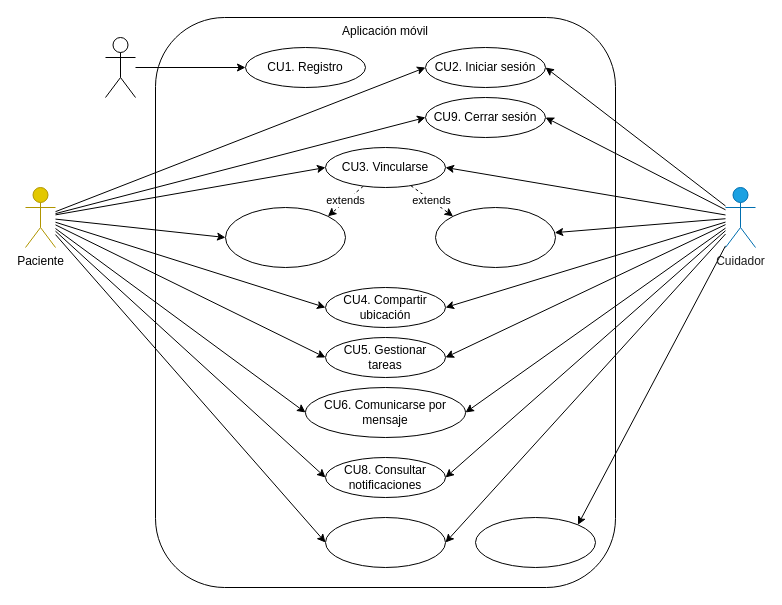
The diagram is 782 pixels wide and 605 high, and some of its shapes have lost their labels. The centre of each missing label's shape, as x and y in pixels:
CU3.1. Vincular Cuidador: [285,237]
CU3.2. Vincular Paciente: [495,237]
CU7.1.Consultar Cuidadores: [385,542]
CU7.2. Consultar Paciente: [535,542]
Usuario no registrado: [120,67]
